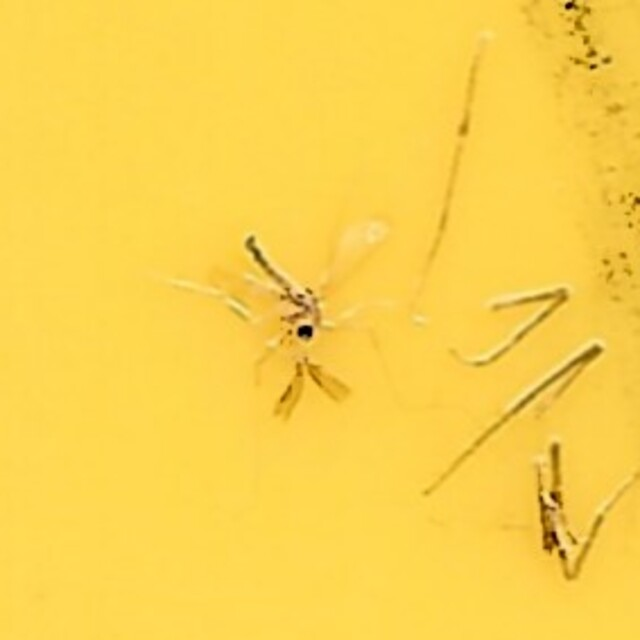Nematocera: (226, 221, 414, 419)
